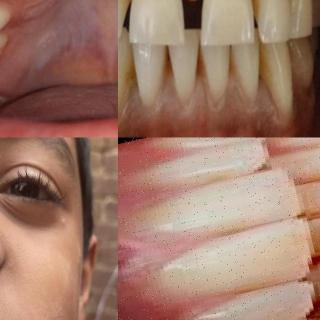stains: (252, 41, 274, 87), (190, 45, 210, 87), (121, 52, 139, 96), (159, 42, 177, 78), (219, 59, 234, 86)
